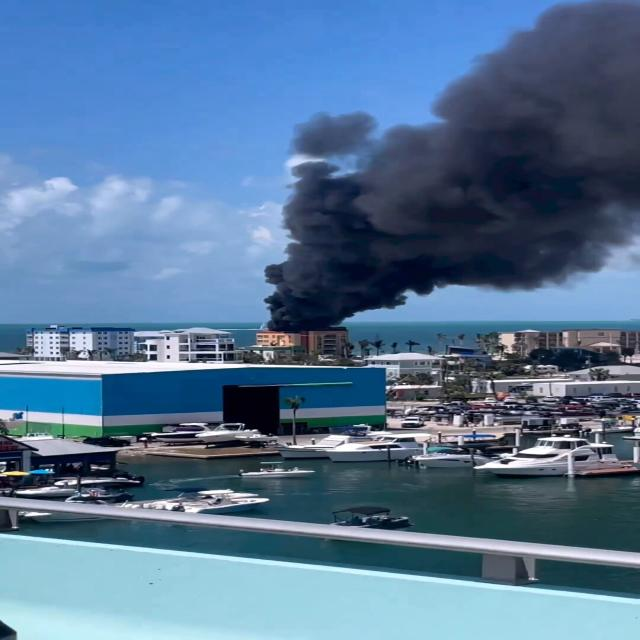smoke: (426, 146, 580, 280), (278, 204, 405, 306), (460, 63, 614, 140)
